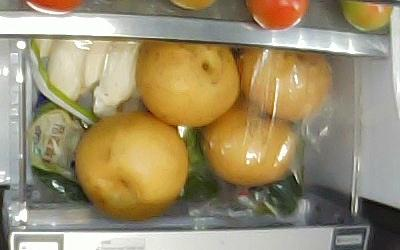pear: (76, 112, 188, 220), (136, 39, 240, 127)
pear_vinyl: (200, 100, 296, 187), (237, 45, 332, 121)
